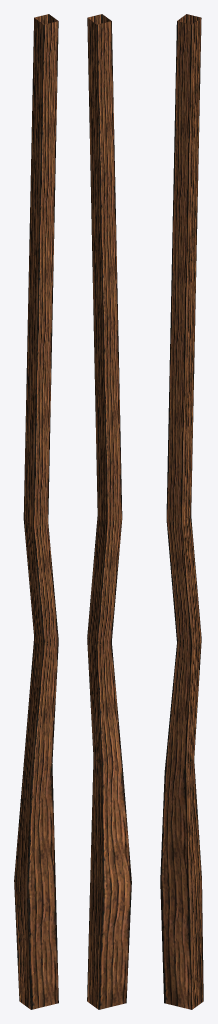
File: LAKETOWN_PUB_PS_PUB_CEILING_POLE023938.fbx
3 renders of one model, left to right at view 1: azimuth 30°, elevation 25°; view 2: azimuth 210°, elevation 25°; view 3: azimuth 330°, elevation 25°, orthographic.
Visible parts, largest first — view 1: LAKETOWN_PUB_PS_PUB_CEILING_POLE023938; view 2: LAKETOWN_PUB_PS_PUB_CEILING_POLE023938; view 3: LAKETOWN_PUB_PS_PUB_CEILING_POLE023938.
Boxes of the visible parts, x1,y1,x2,y2 form: LAKETOWN_PUB_PS_PUB_CEILING_POLE023938: [14, 14, 58, 1009]; LAKETOWN_PUB_PS_PUB_CEILING_POLE023938: [87, 14, 131, 1009]; LAKETOWN_PUB_PS_PUB_CEILING_POLE023938: [160, 14, 203, 1009].
Bounding box in the file's own units: 3065 × 90875 × 2208.
1 material, 1 textured.
